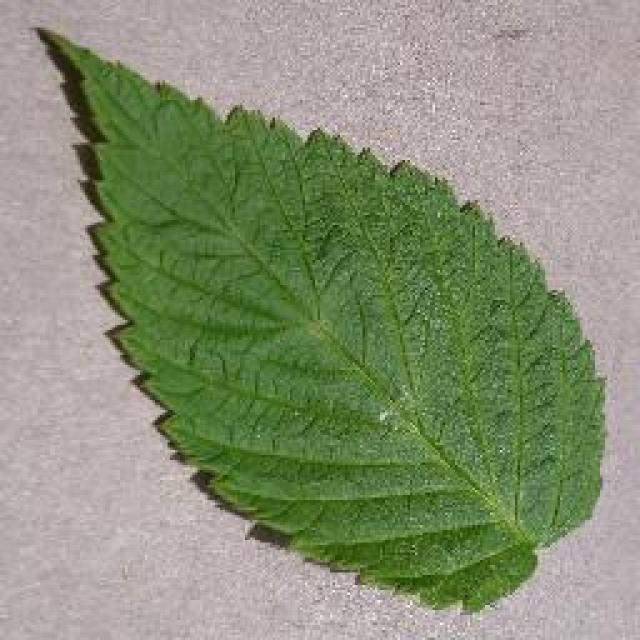Ras_healthy: (72, 81, 566, 581)
